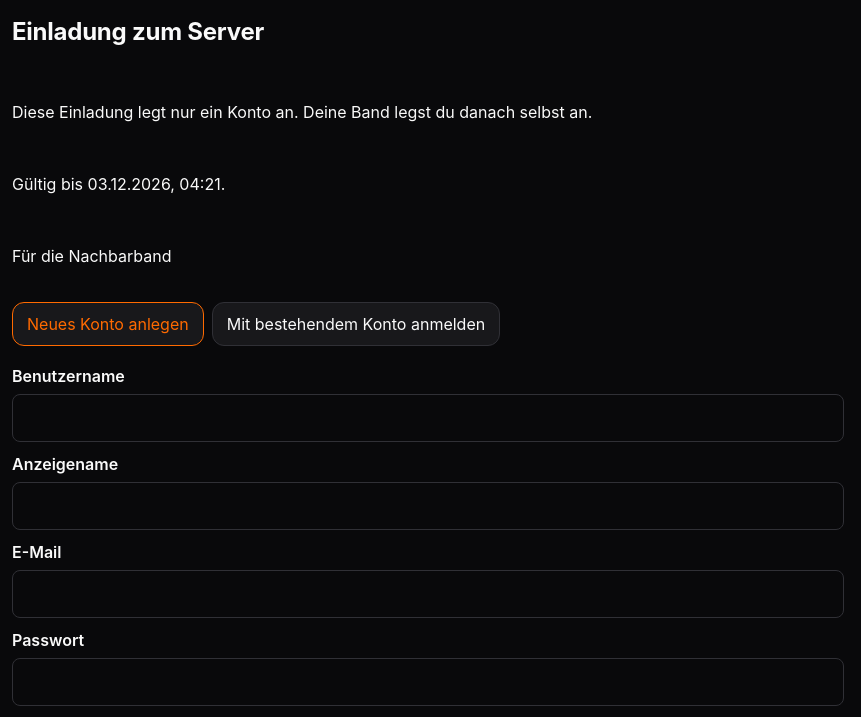
it: BeitrittAnsicht › meldet einen zwischenzeitlich ungueltigen Link beim Absenden
Expected: the heading "Einladung zum Server" is shown, left=12, top=17, right=264, bottom=46
Type "neu" into the field labelled "Benutzername" at point(428, 418), box left=12, top=394, right=844, bottom=442
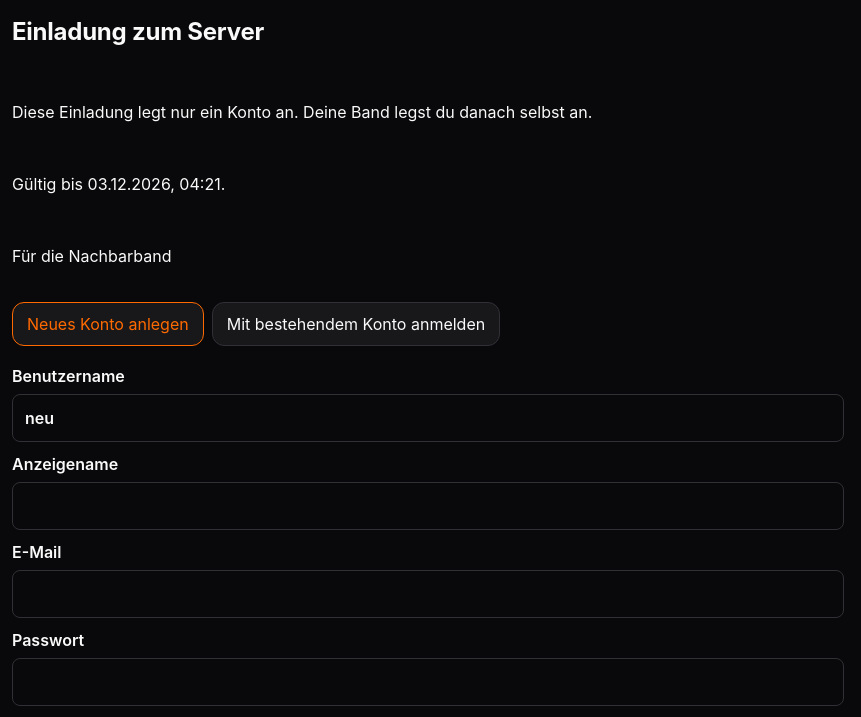
Type "neu@example.test" into the field labelled "E-Mail" at point(428, 594), box left=12, top=570, right=844, bottom=618
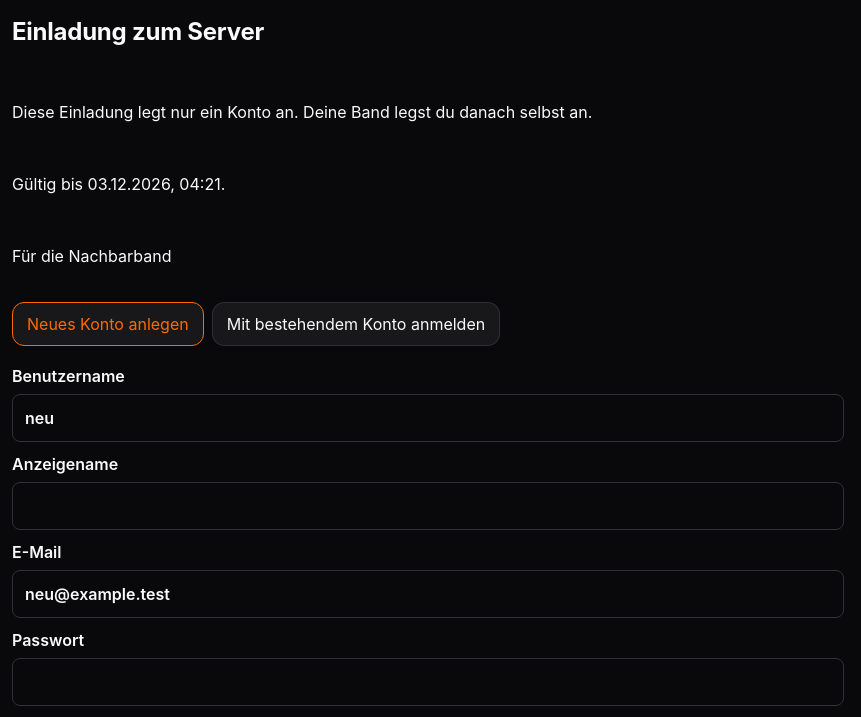
Type "testpasswort-1111" into the password field labelled "Passwort" at point(428, 682), box left=12, top=658, right=844, bottom=706
(page scrolled)
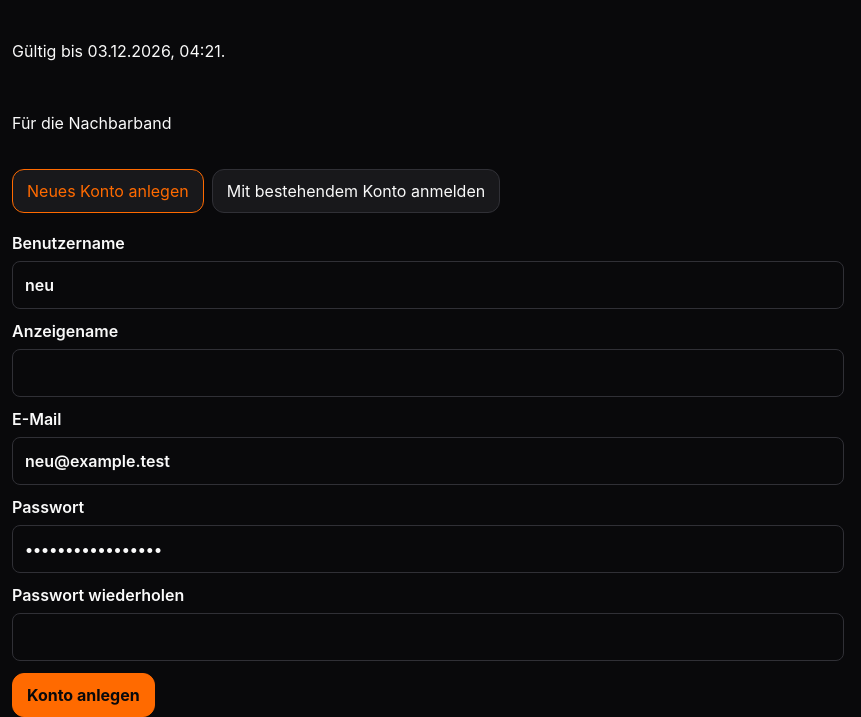
Type "testpasswort-1111" into the password field labelled "Passwort wiederholen" at point(428, 637), box left=12, top=613, right=844, bottom=661
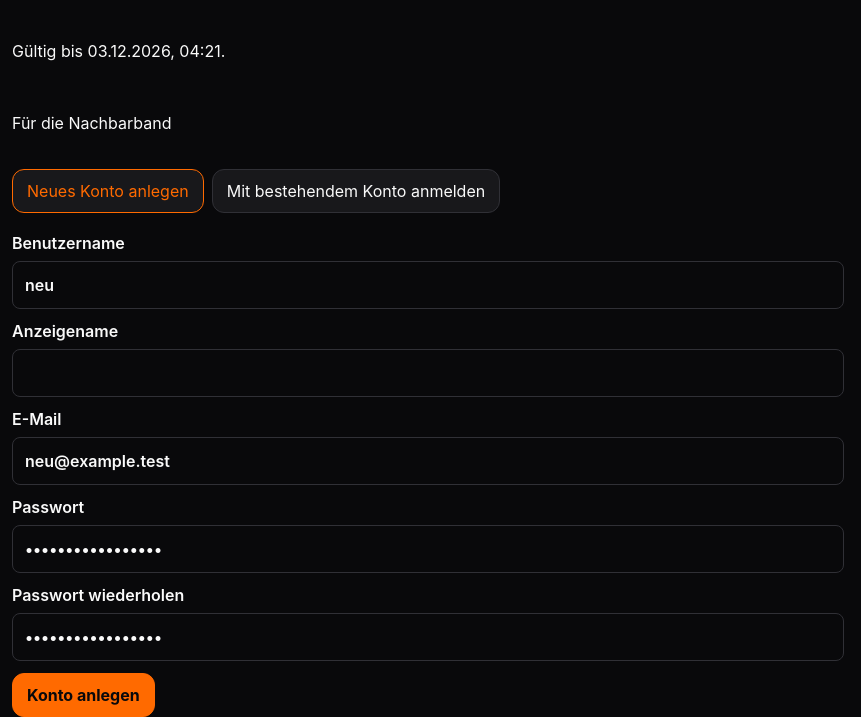
Click the button "Konto anlegen" at point(83, 695), box left=12, top=673, right=155, bottom=716
(page scrolled)
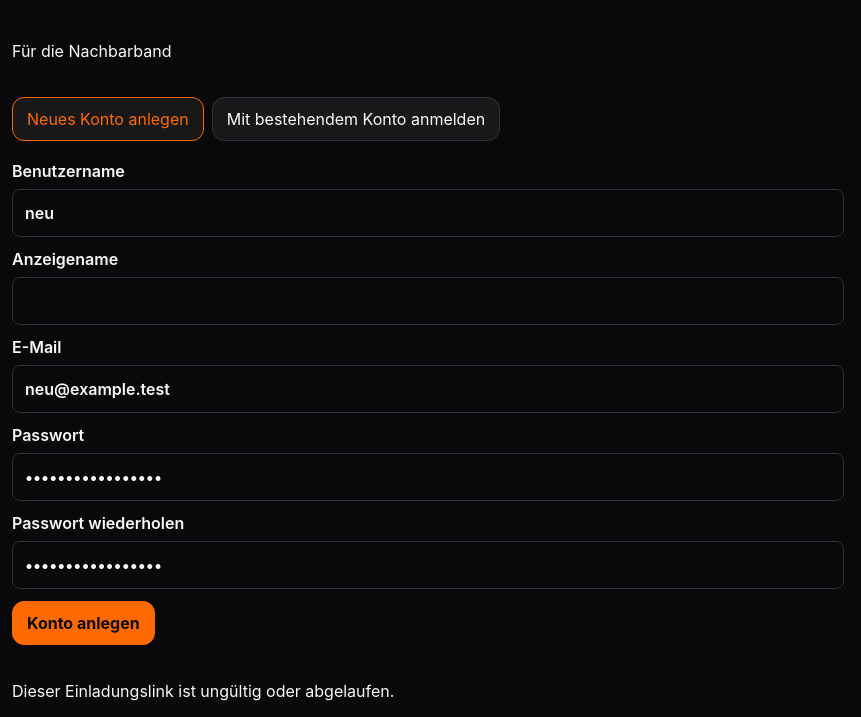
Expected: the text "Dieser Einladungslink ist ungültig oder abgelaufen." is shown, left=12, top=681, right=394, bottom=701
